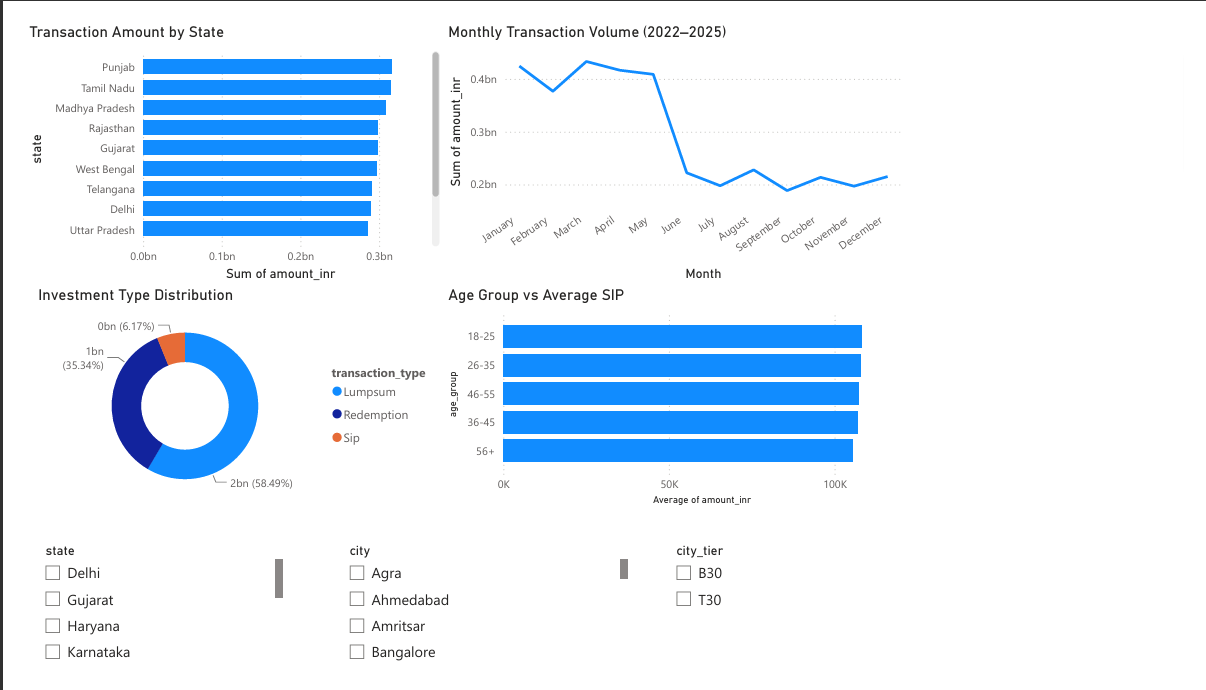

The page's visual inventory and layout, read from the dashboard file:
{"tool":"powerbi","page":{"name":"Investor Analytics","canvas":[1280,720],"ordinal":2},"visuals":[{"type":"clusteredBarChart","title":"Transaction Amount by State","fields":{"Category":["08_transactions_clean.state"],"Y":["Sum(08_transactions_clean.amount_inr)"]},"box":[0,0,463.5,289.8],"z":0},{"type":"donutChart","title":"Investment Type Distribution","fields":{"Category":["08_transactions_clean.transaction_type"],"Y":["Sum(08_transactions_clean.amount_inr)"]},"box":[9.8,289.8,453.7,248.2],"z":1000},{"type":"lineChart","title":"Monthly Transaction Volume (2022–2025)","fields":{"Category":["08_transactions_clean.transaction_date.Variation.Date Hierarchy.Month"],"Y":["Sum(08_transactions_clean.amount_inr)"]},"box":[463.5,0,509.9,289.8],"z":2000},{"type":"clusteredBarChart","title":"Age Group vs Average SIP","fields":{"Category":["08_transactions_clean.age_group"],"Y":["Avg(08_transactions_clean.amount_inr)"]},"box":[463.5,289.8,523.4,248.2],"z":3000},{"type":"slicer","fields":{"Values":["08_transactions_clean.state"]},"box":[10,570,280,150],"z":4000},{"type":"slicer","fields":{"Values":["08_transactions_clean.city"]},"box":[346.1,569.8,325.3,150.4],"z":5000},{"type":"slicer","fields":{"Values":["08_transactions_clean.city_tier"]},"box":[706.8,569.8,325.3,150.4],"z":6000}]}

Visuals, with their boxes in screenshot pixels (x1, y1, x2, y2), scaled from the page's 1280x720 canvas onto the 1206x690 screenshot:
"Transaction Amount by State" clusteredBarChart: [0, 0, 437, 278]
"Investment Type Distribution" donutChart: [9, 278, 437, 516]
"Monthly Transaction Volume (2022–2025)" lineChart: [437, 0, 917, 278]
"Age Group vs Average SIP" clusteredBarChart: [437, 278, 930, 516]
slicer - 08_transactions_clean.state: [9, 546, 273, 689]
slicer - 08_transactions_clean.city: [326, 546, 633, 689]
slicer - 08_transactions_clean.city_tier: [666, 546, 972, 689]
